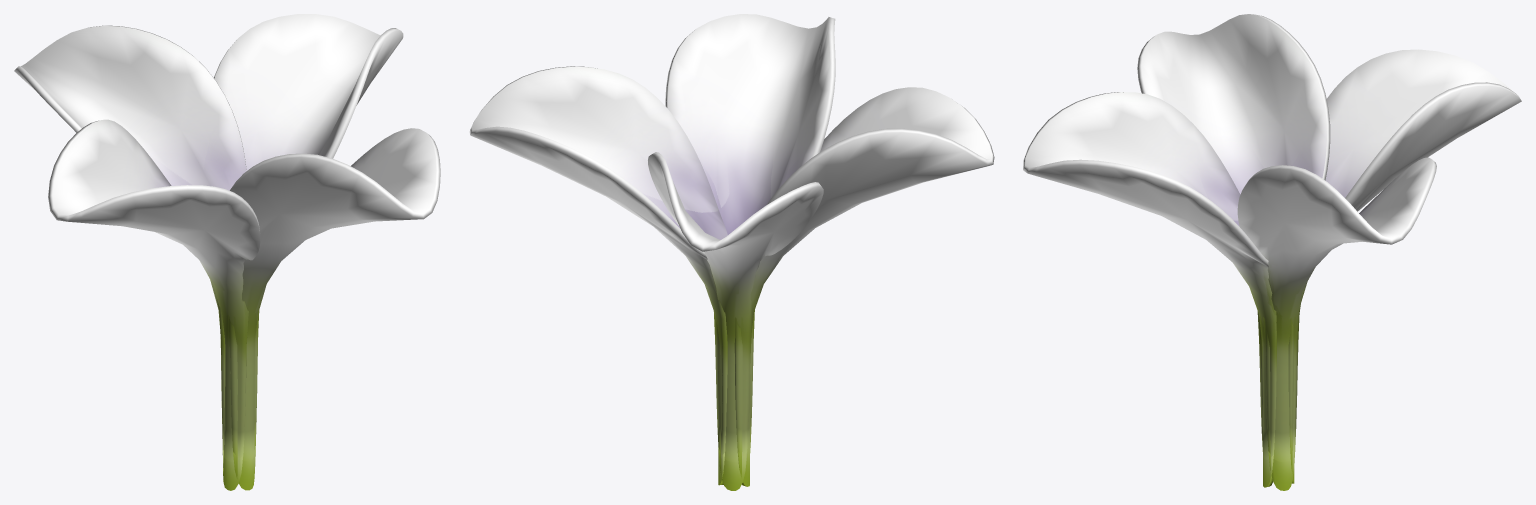
The model's file is fleur4.fbx.
3 views of the same model, side by side, from view 1: azimuth 30°, elevation 25°; view 2: azimuth 150°, elevation 25°; view 3: azimuth 270°, elevation 25° (orthographic). The views are drawn at different scales.
Visible parts, largest first — view 1: ORIGINALE.003; view 2: ORIGINALE.003; view 3: ORIGINALE.003.
Part boxes in pixels (left/top/right/bottom): ORIGINALE.003: left=14, top=14, right=440, bottom=490; ORIGINALE.003: left=469, top=14, right=994, bottom=490; ORIGINALE.003: left=1023, top=14, right=1521, bottom=490.
Size of the model in its own units: 0.3315 by 0.2886 by 0.3372.
Materials: 1 (1 with a texture image).
